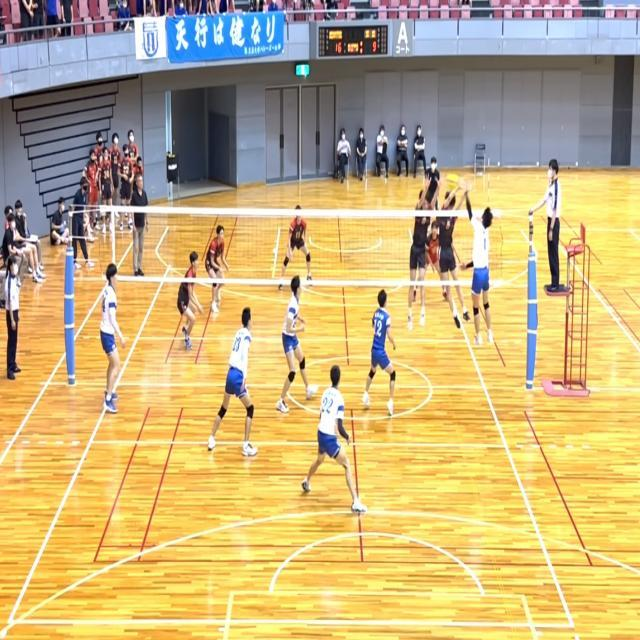spike: (443, 168, 496, 356)
